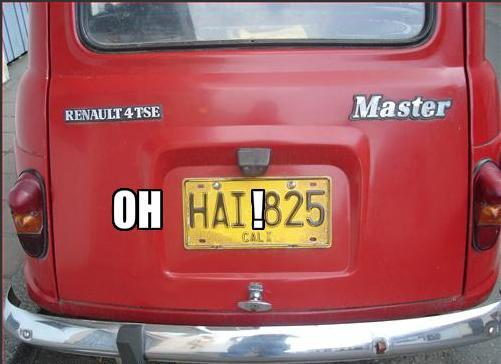placas: (181, 174, 334, 250)
